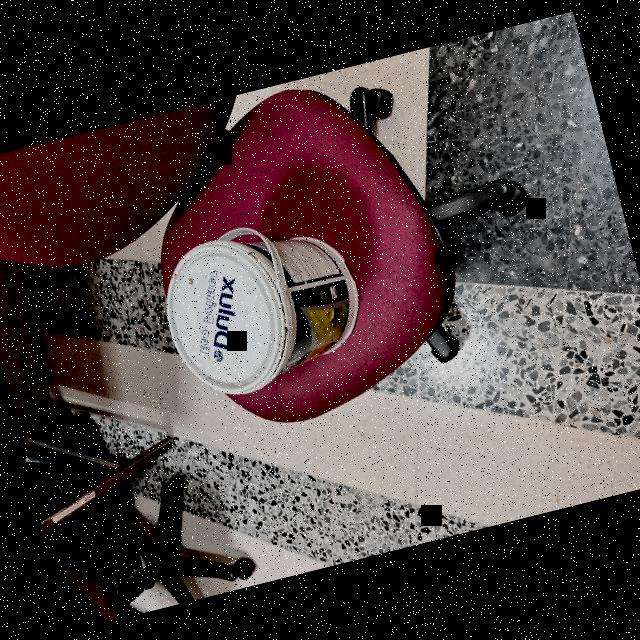paint_bucket: (144, 205, 376, 408)
